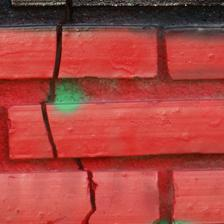Crack: (0, 0, 78, 107), (0, 0, 117, 68)
